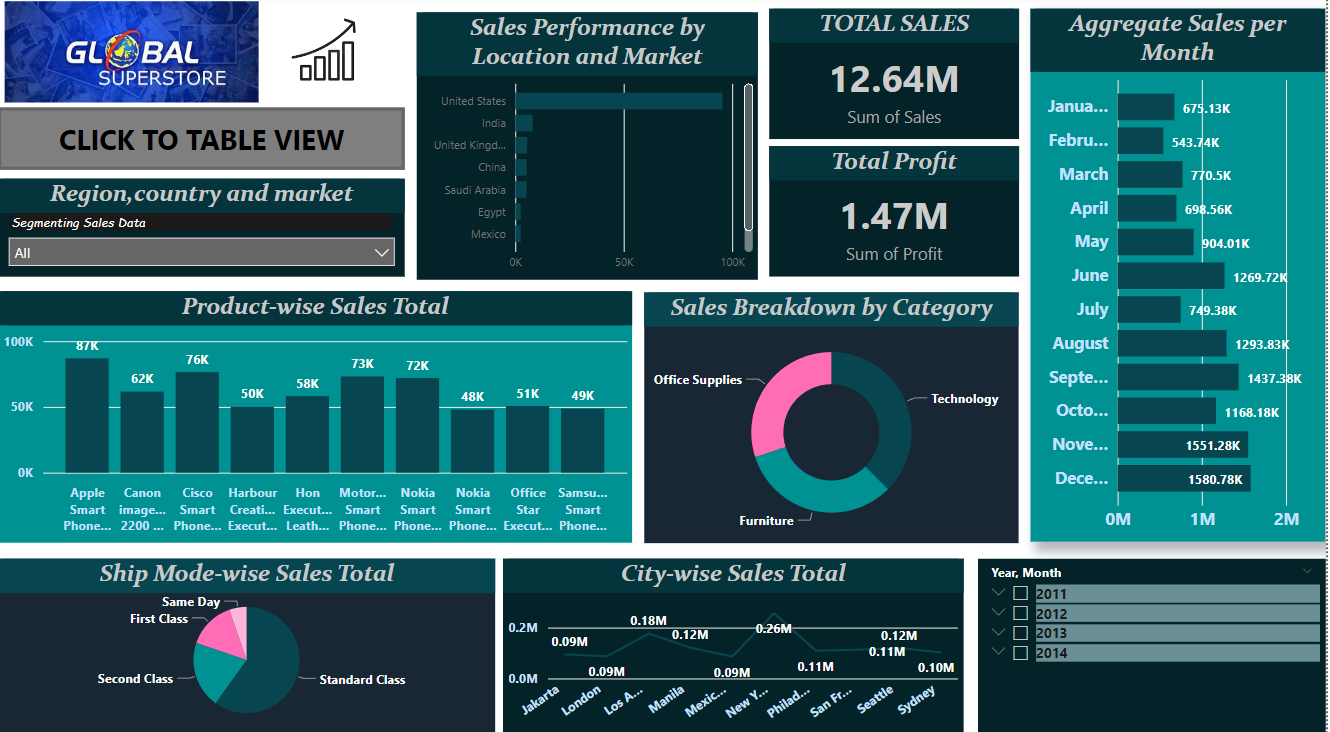

The dashboard page shown, as its layout file describes it:
{"tool":"powerbi","page":{"name":"Page 1","canvas":[1280,720],"ordinal":0},"visuals":[{"type":"card","title":"TOTAL SALES","fields":{"Values":["Sum(Orders.Sales)"]},"box":[743.2,12.2,240.8,125.9],"z":0},{"type":"slicer","title":"Region,country and market","fields":{"Values":["Orders.Region","Orders.Country","Orders.Market"]},"box":[0,176,392.4,94.1],"z":1000},{"type":"pieChart","title":"Ship Mode-wise Sales Total","fields":{"Category":["Orders.Ship Mode"],"Y":["Sum(Orders.Sales)"]},"box":[0,542.8,479.2,167.5],"z":2000},{"type":"clusteredBarChart","title":"Sales Performance by Location and Market","fields":{"Category":["Orders.Country","Orders.State","Orders.City","Orders.Sales"],"Y":["Sum(Orders.Sales)"]},"box":[403.4,15.9,328.8,257.9],"z":3000},{"type":"card","title":"Total Profit","fields":{"Values":["Sum(Orders.Profit)"]},"box":[743.2,144.2,240.8,125.9],"z":4000},{"type":"clusteredBarChart","title":"Aggregate Sales per Month","fields":{"Category":["Orders.Order Date.Variation.Date Hierarchy.Month"],"Y":["Sum(Orders.Sales)"]},"box":[995.4,12.6,283.9,513.8],"z":5000},{"type":"clusteredColumnChart","title":"Product-wise Sales Total","fields":{"Category":["Orders.Product Name"],"Y":["Sum(Orders.Sales)"]},"box":[0,284.8,611.2,242],"z":6000},{"type":"lineChart","title":"City-wise Sales Total","fields":{"Category":["Orders.City"],"Y":["Sum(Orders.Sales)"]},"box":[486.5,542.8,443.7,167.5],"z":7000},{"type":"donutChart","title":"Sales Breakdown by Category","fields":{"Category":["Orders.Category"],"Y":["Sum(Orders.Sales)"]},"box":[623,285.4,360.9,241.5],"z":8000},{"type":"slicer","fields":{"Values":["Orders.Order Date.Variation.Date Hierarchy.Year","Orders.Order Date.Variation.Date Hierarchy.Month"]},"box":[944.9,542.8,334.9,167.5],"z":9000},{"type":"actionButton","box":[0,107.6,392.4,59.9],"z":10000},{"type":"image","box":[0,0,256.7,107.6],"z":10001},{"type":"image","box":[224.9,0,178.5,107.6],"z":10002}]}

Visuals, with their boxes in screenshot pixels (x1, y1, x2, y2), scaled from the page's 1280x720 canvas onto the 1330x732 screenshot:
"TOTAL SALES" card: [left=772, top=12, right=1022, bottom=140]
"Region,country and market" slicer: [left=0, top=179, right=408, bottom=275]
"Ship Mode-wise Sales Total" pieChart: [left=0, top=552, right=498, bottom=722]
"Sales Performance by Location and Market" clusteredBarChart: [left=419, top=16, right=761, bottom=278]
"Total Profit" card: [left=772, top=147, right=1022, bottom=275]
"Aggregate Sales per Month" clusteredBarChart: [left=1034, top=13, right=1329, bottom=535]
"Product-wise Sales Total" clusteredColumnChart: [left=0, top=290, right=635, bottom=536]
"City-wise Sales Total" lineChart: [left=506, top=552, right=967, bottom=722]
"Sales Breakdown by Category" donutChart: [left=647, top=290, right=1022, bottom=536]
slicer - Orders.Order Date.Variation.Date Hierarchy.Year x Orders.Order Date.Variation.Date Hierarchy.Month: [left=982, top=552, right=1329, bottom=722]
actionButton: [left=0, top=109, right=408, bottom=170]
image: [left=0, top=0, right=267, bottom=109]
image: [left=234, top=0, right=419, bottom=109]
